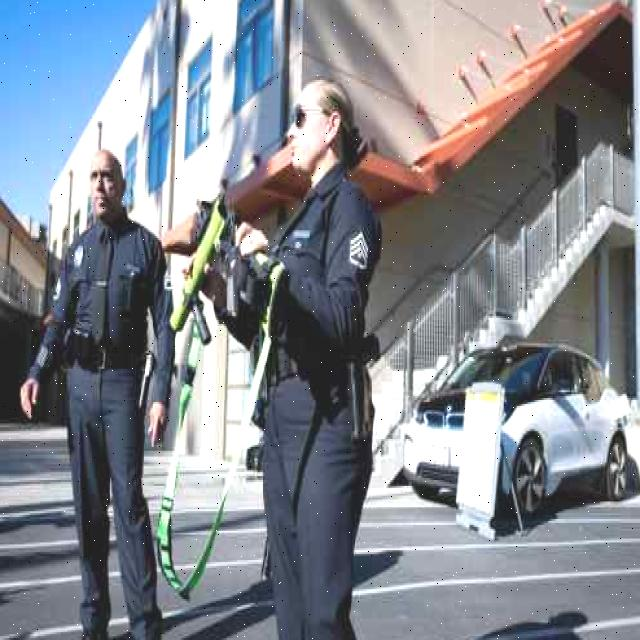police: (237, 68, 408, 640), (25, 127, 184, 640)
